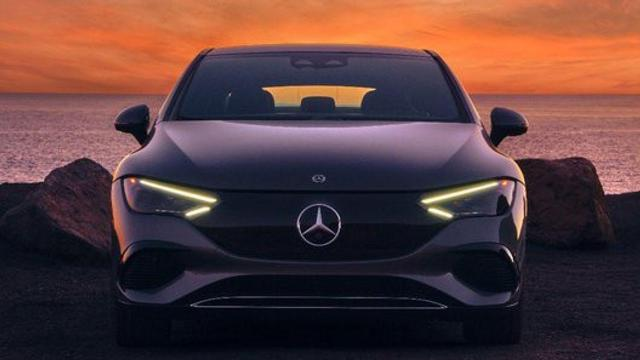benz: (110, 43, 528, 347)
